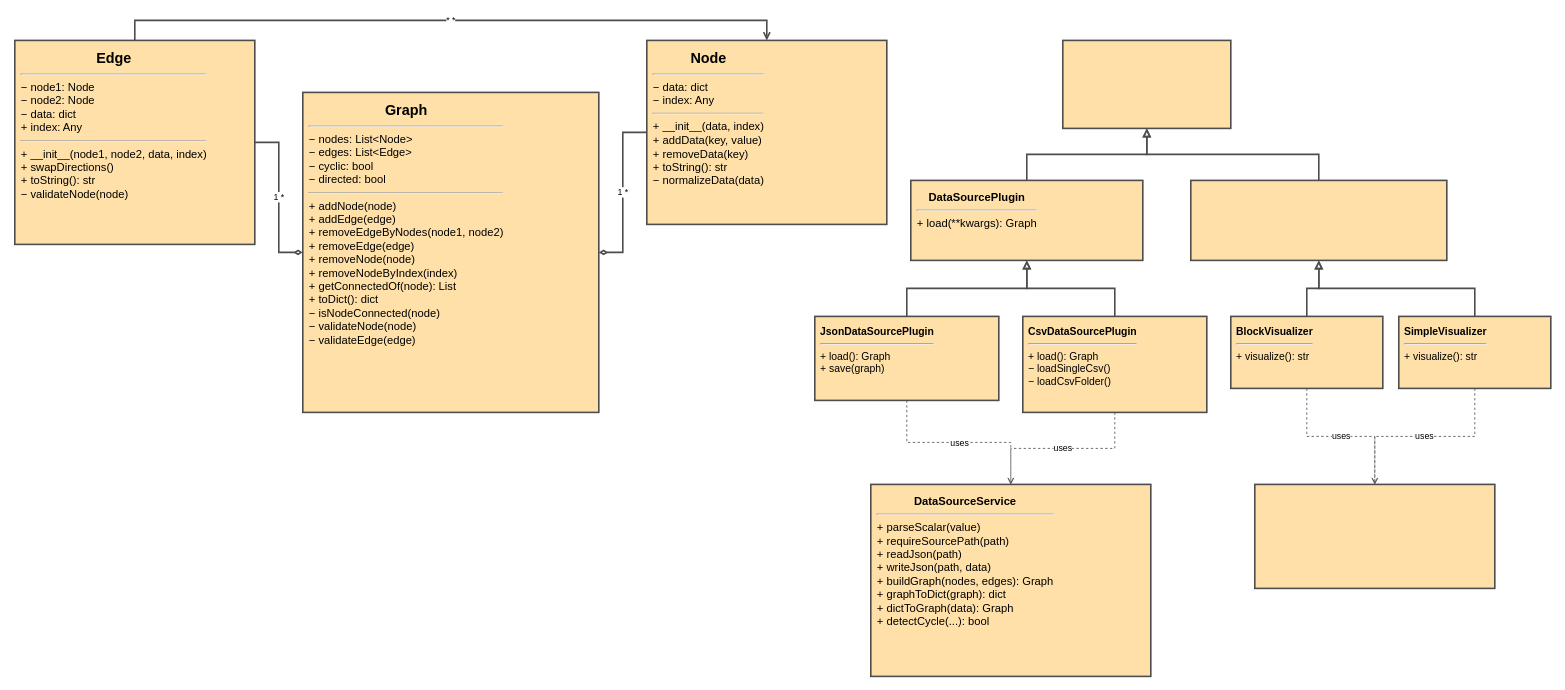
The diagram is 1565 pixels wide and 690 high, and some of its shapes have lost their labels. Here are the shapes that lost their labels. From the top down, the centre of each, then its label:
the point at 1146,84: Plugin + name(): str + identifier(): str
the point at 1318,220: VisualizationPlugin + visualize(graph, **kwargs): str
the point at 1374,536: visualization «module» + graphData(graph): dict + visualizationHtml(...): str
